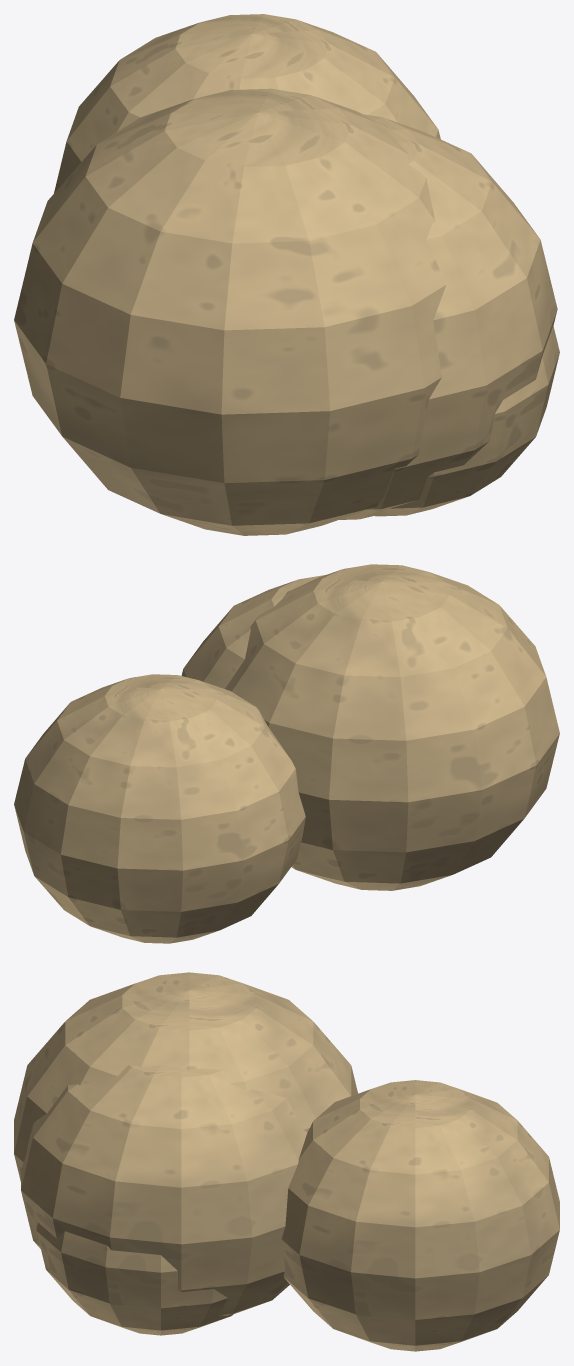
Rendered from puffball_cluster_v2.fbx.
3 renders of one model, top to bottom at view 1: azimuth 30°, elevation 25°; view 2: azimuth 150°, elevation 25°; view 3: azimuth 270°, elevation 25°, orthographic. The views are drawn at different scales.
Parts seen in each view (by area): view 1: puffball_cluster_v2; view 2: puffball_cluster_v2; view 3: puffball_cluster_v2.
Part boxes in pixels (box(x1,y1,x2,y2)): puffball_cluster_v2: box(14, 14, 559, 535); puffball_cluster_v2: box(14, 564, 559, 943); puffball_cluster_v2: box(14, 972, 559, 1351).
Size of the model in its own units: 20.09 by 14.33 by 24.16.
Materials: 1 (1 with a texture image).
